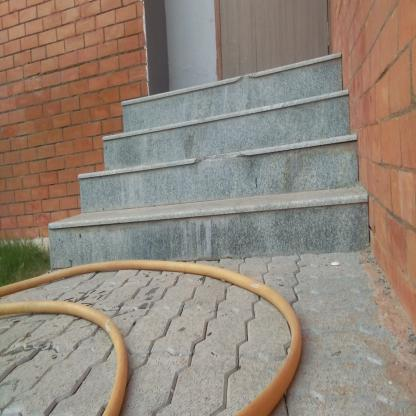stairs: (94, 127, 348, 281)
